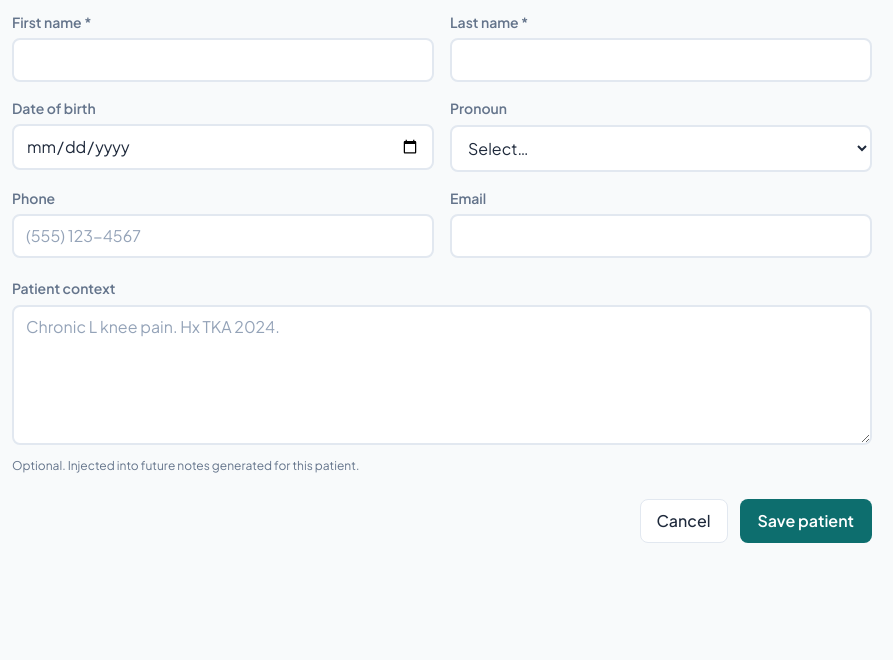
PatientCreateForm › displays validation errors when required fields are empty
Click the button "Save patient" at (806, 521), box [740,499,872,543]
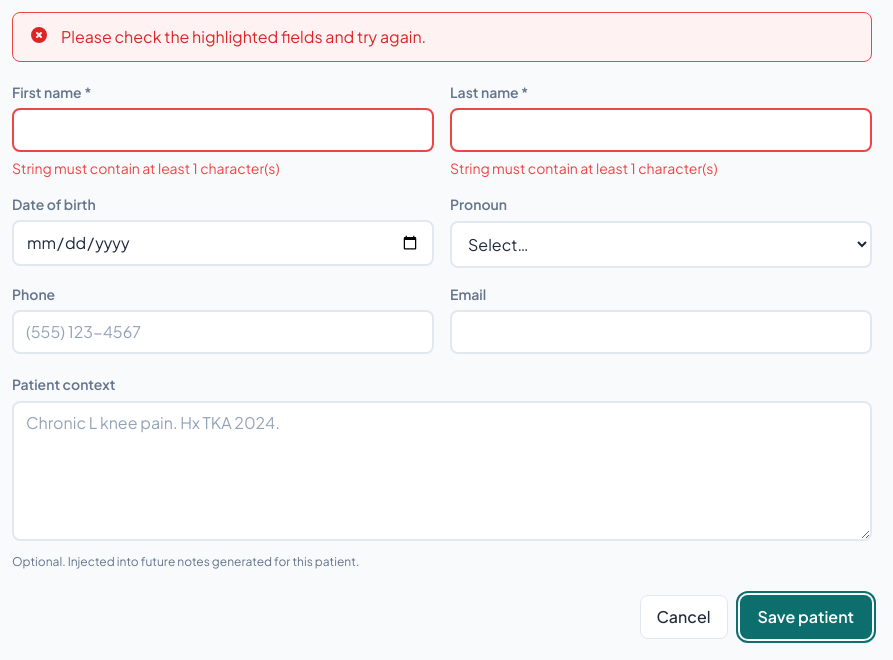
expect the text "Please check the highlighted fields and try again." is shown: met, box [61,26,426,47]
